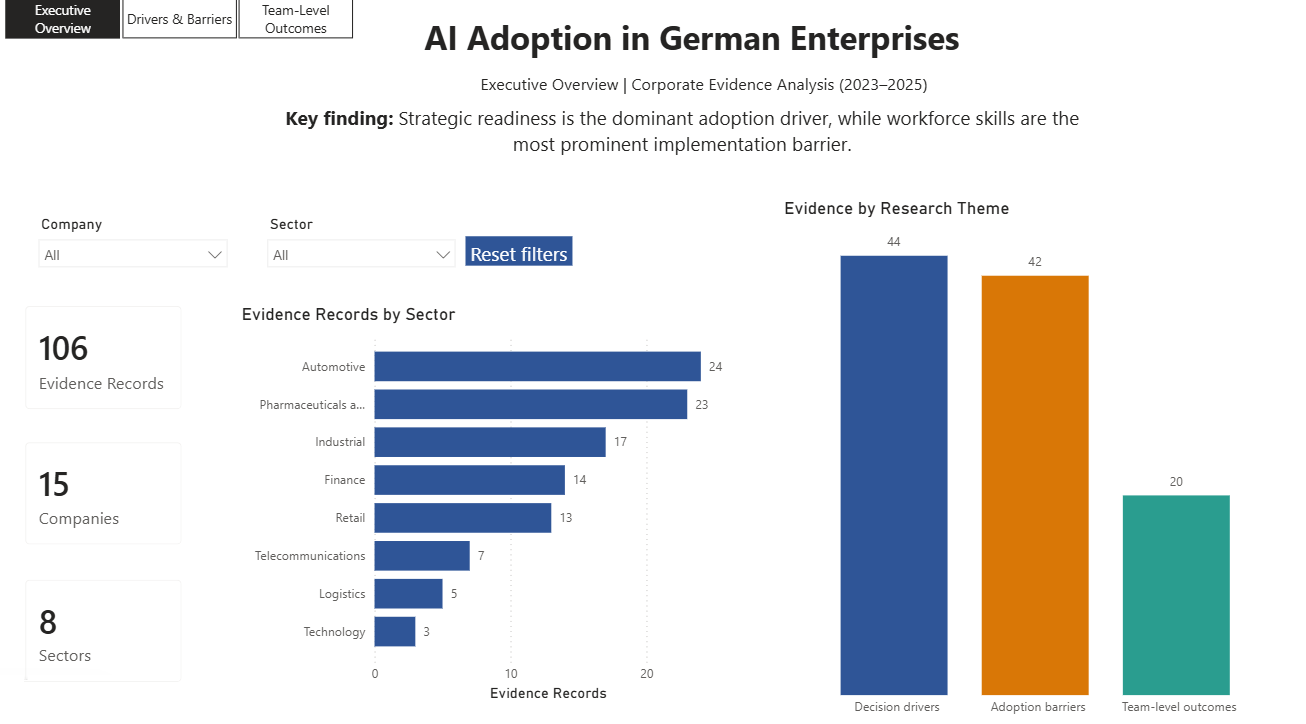

Layout of this report page (visuals, bound fields, positions):
{"tool":"powerbi","page":{"name":"Executive Overview","canvas":[1280,720],"ordinal":0},"visuals":[{"type":"cardVisual","fields":{"Data":["FactEvidence.Evidence Records"]},"box":[9.8,292.3,187,135.4],"z":0},{"type":"cardVisual","fields":{"Data":["DimCompany.Companies Analyzed"]},"box":[9.8,425.1,187,134.7],"z":1000},{"type":"cardVisual","fields":{"Data":["DimSector.Sectors Analyzed"]},"box":[9.8,559.8,187,134.7],"z":2000},{"type":"clusteredColumnChart","title":"Evidence by Research Theme","fields":{"Category":["DimResearchQuestion.AnalysisTheme"],"Y":["FactEvidence.Evidence Records"]},"box":[764,203,507,517],"z":3000},{"type":"textbox","box":[386.5,19,584.6,56.2],"z":4000},{"type":"textbox","box":[445.3,75.2,491.1,36],"z":5000},{"type":"slicer","fields":{"Values":["DimSector.SectorName"]},"box":[253.1,215.8,204.7,76.5],"z":6000},{"type":"slicer","fields":{"Values":["DimCompany.CompanyName"]},"box":[28.8,215.8,205.3,78.5],"z":7000},{"type":"clusteredBarChart","title":"Evidence Records by Sector","fields":{"Category":["DimSector.SectorName"],"Y":["FactEvidence.Evidence Records"]},"box":[234.1,307.4,487.2,393.7],"z":8000},{"type":"textbox","box":[267.5,107.9,803.1,60.8],"z":9000},{"type":"actionButton","box":[457.8,240.7,104.6,28.8],"z":10000},{"type":"pageNavigator","box":[7.1,7.1,340,40.8],"z":10002}]}

Visuals, with their boxes on the page's 1280x720 design canvas (x1, y1, x2, y2). These are canvas units, not pixel positions in the 1306x724 screenshot, which may show the page scaled, cropped or inside an application window:
cardVisual - FactEvidence.Evidence Records: (10, 292, 197, 428)
cardVisual - DimCompany.Companies Analyzed: (10, 425, 197, 560)
cardVisual - DimSector.Sectors Analyzed: (10, 560, 197, 694)
"Evidence by Research Theme" clusteredColumnChart: (764, 203, 1271, 720)
textbox: (386, 19, 971, 75)
textbox: (445, 75, 936, 111)
slicer - DimSector.SectorName: (253, 216, 458, 292)
slicer - DimCompany.CompanyName: (29, 216, 234, 294)
"Evidence Records by Sector" clusteredBarChart: (234, 307, 721, 701)
textbox: (268, 108, 1071, 169)
actionButton: (458, 241, 562, 270)
pageNavigator: (7, 7, 347, 48)
